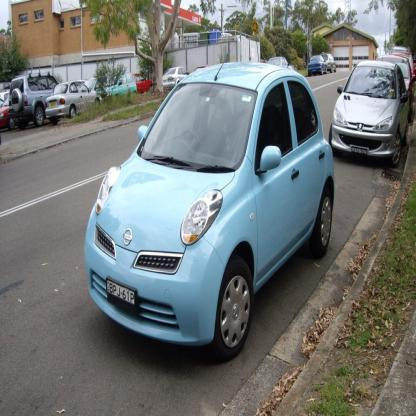Car: (84, 33, 336, 364), (329, 54, 411, 173), (375, 54, 416, 119), (46, 83, 103, 128), (1, 99, 34, 132), (107, 73, 139, 99), (390, 53, 416, 83), (163, 66, 192, 90), (82, 79, 113, 99), (195, 65, 213, 92), (391, 48, 416, 66), (132, 73, 153, 94), (307, 55, 328, 74), (267, 57, 293, 70), (325, 54, 338, 74)
